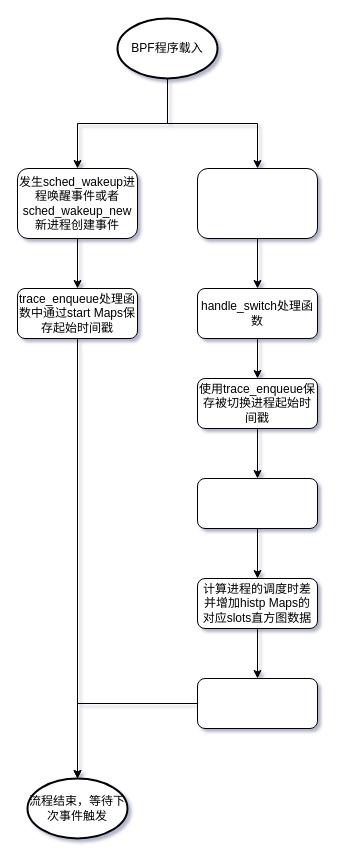
This 341x862 diagram has some shape labels left out. Here are the shapes that lost their labels. From the top down, the centre of each, then its label:
At (257,203): "发生sched_switch进程切换事件".
At (257,503): "通过start Map查找当前进程时间戳".
At (257,703): "删除start Maps的进程时间记录".
